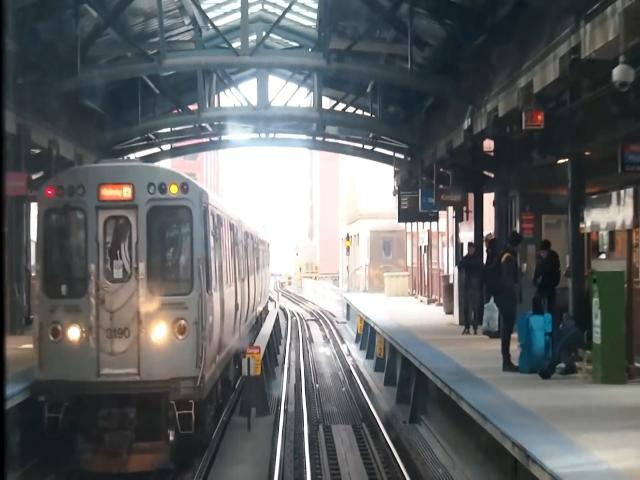signal light: (346, 232, 352, 259)
